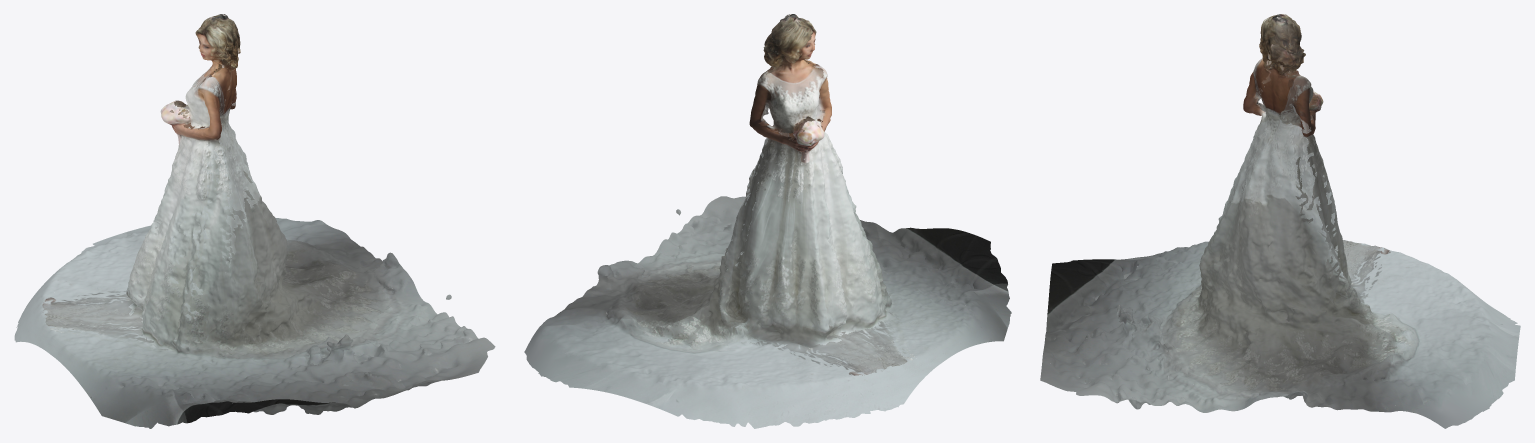
The model's file is demo2com.glb.
3 views of the same model, side by side, from view 1: azimuth 30°, elevation 25°; view 2: azimuth 150°, elevation 25°; view 3: azimuth 270°, elevation 25° (orthographic).
Parts seen in each view (by area): view 1: Object_2; view 2: Object_2; view 3: Object_2.
Part boxes in pixels (bbox=[...]): Object_2: bbox=[14, 14, 495, 428]; Object_2: bbox=[524, 14, 1011, 428]; Object_2: bbox=[1040, 14, 1520, 428].
Bounding box in the file's own units: 7.28 × 6.41 × 8.64.
Materials: 1 (1 with a texture image).
